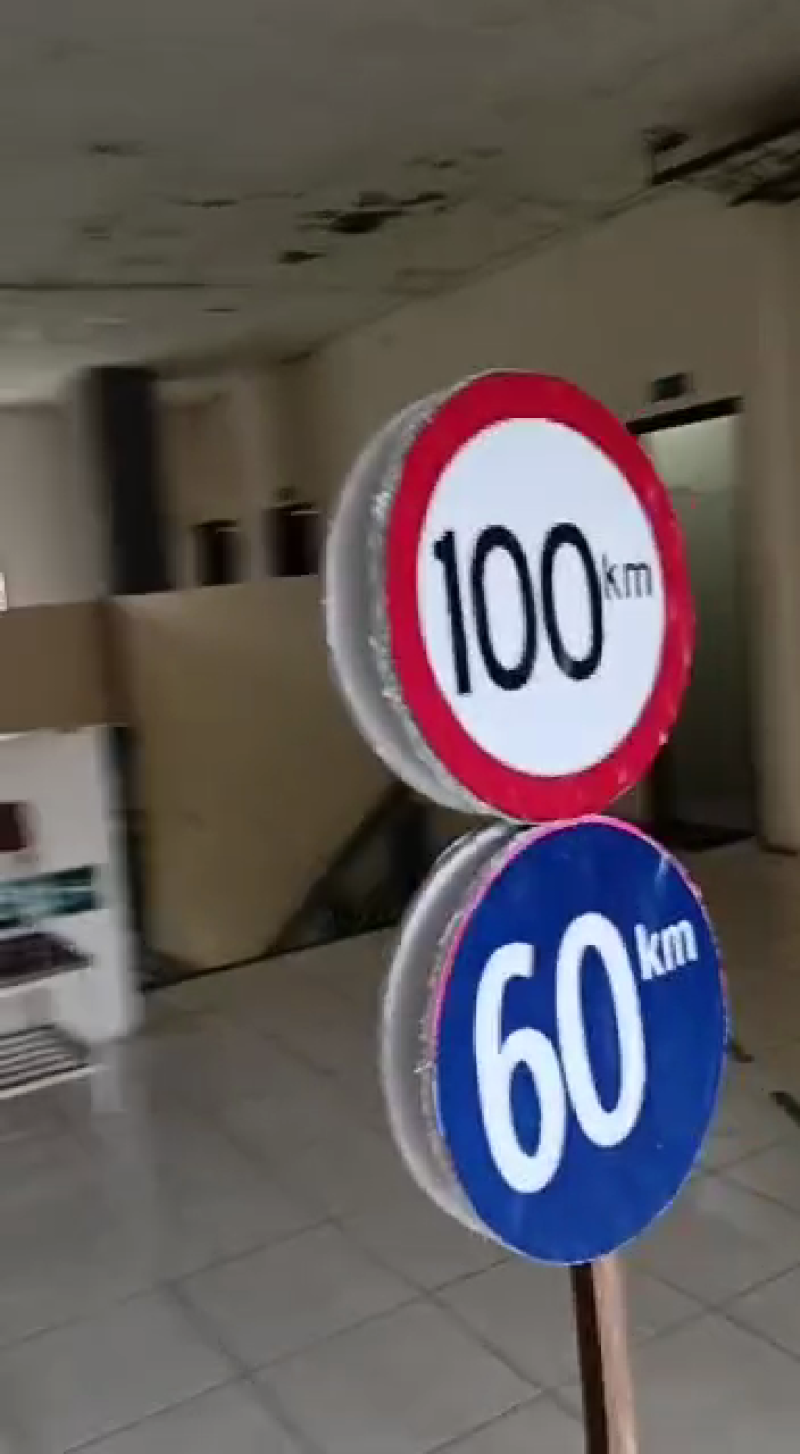batas maksimal 100kmperjam minimal 60kmperjam: (375, 354, 737, 1267)
